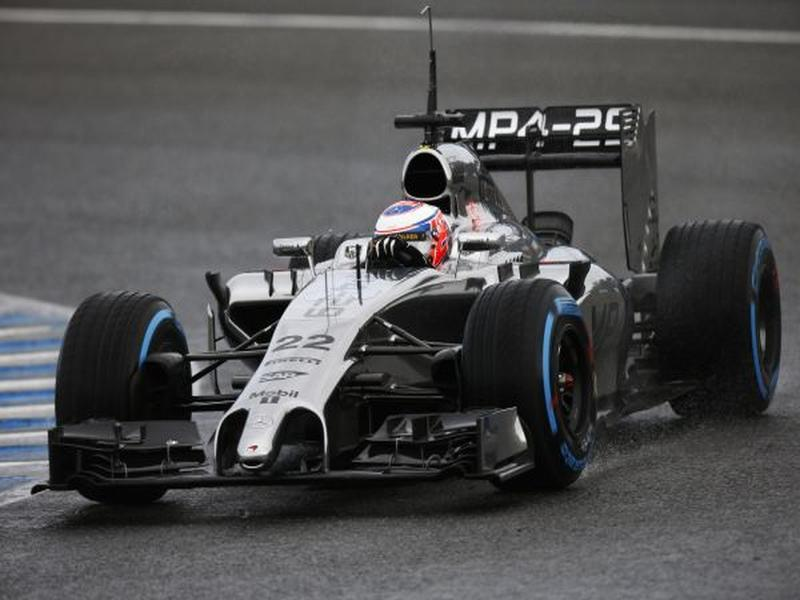f1: (77, 73, 779, 510)
